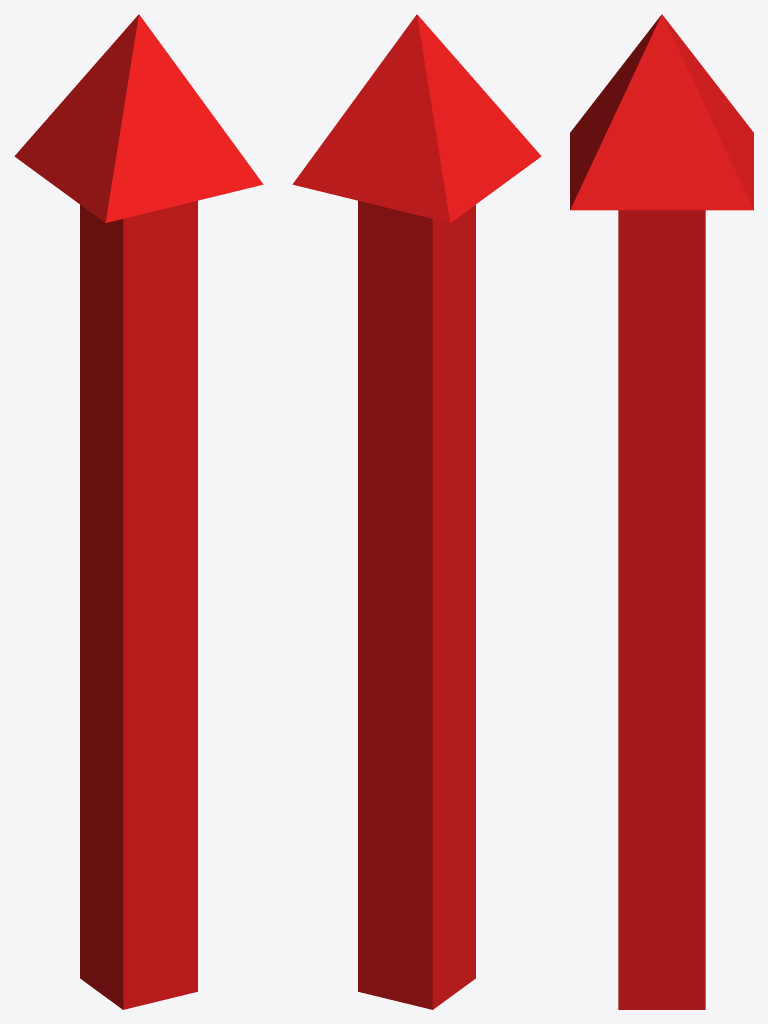
File: arrow.obj
3 views of the same model, side by side, from view 1: azimuth 30°, elevation 25°; view 2: azimuth 150°, elevation 25°; view 3: azimuth 270°, elevation 25° (orthographic).
Parts seen in each view (by area): view 1: Cube; view 2: Cube; view 3: Cube.
Part boxes in pixels (bbox=[...]): Cube: bbox=[14, 14, 263, 1009]; Cube: bbox=[292, 14, 541, 1009]; Cube: bbox=[570, 14, 753, 1009].
Size of the model in its own units: 4.22 by 24.78 by 4.22.
